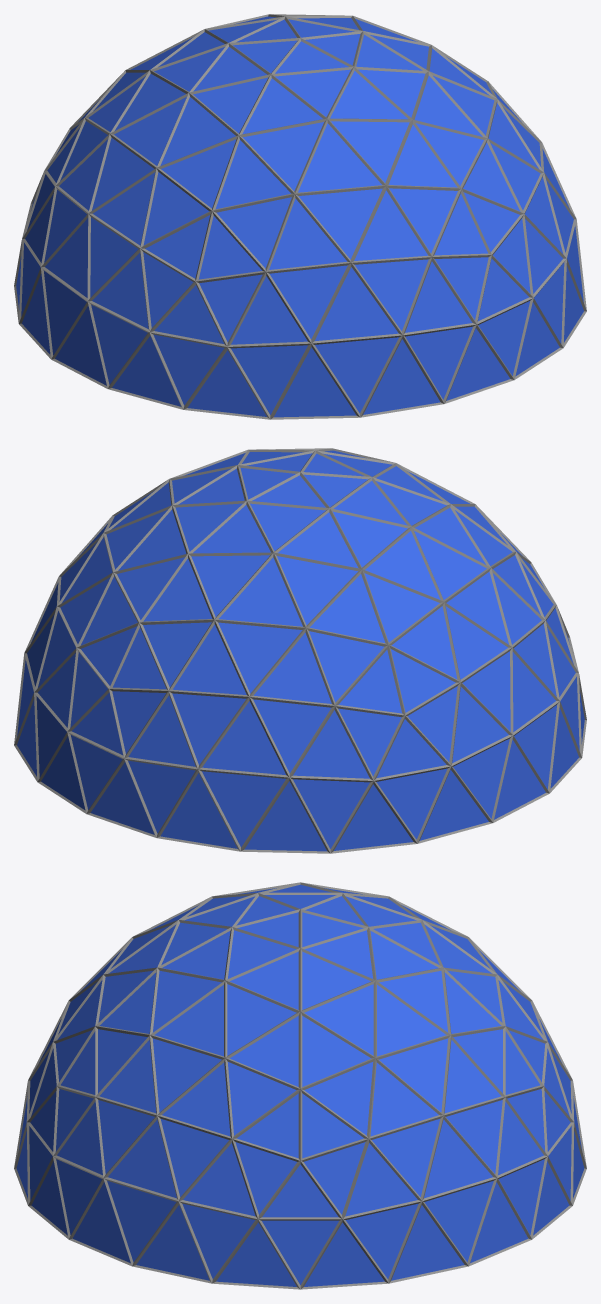
File: The DOMEEEEEEE!!!!.fbx
3 views of the same model, one above another, from view 1: azimuth 30°, elevation 25°; view 2: azimuth 150°, elevation 25°; view 3: azimuth 270°, elevation 25° (orthographic).
Visible parts, largest first — view 1: Icosphere.002; view 2: Icosphere.002; view 3: Icosphere.002.
Boxes of the visible parts, bbox=[...] form: Icosphere.002: bbox=[14, 14, 586, 419]; Icosphere.002: bbox=[14, 448, 586, 853]; Icosphere.002: bbox=[14, 882, 586, 1289].
Size of the model in its own units: 2740 by 1371 by 2740.
